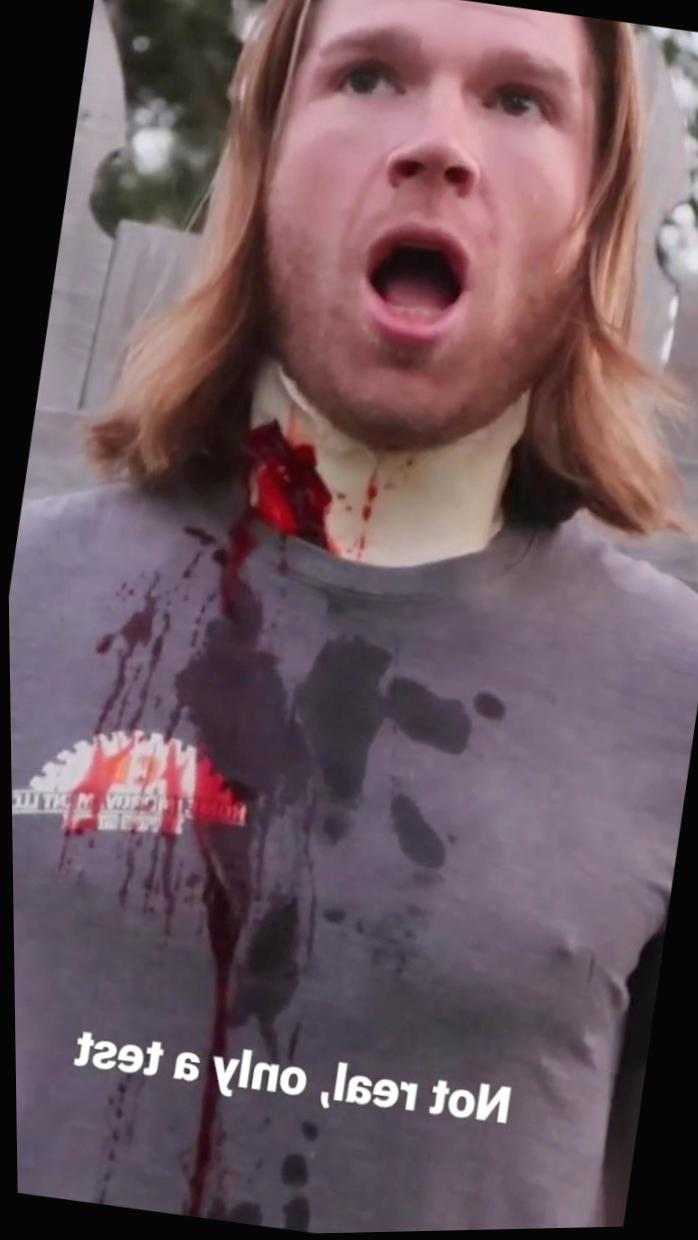Fire: (165, 511, 389, 1069), (24, 730, 182, 841), (69, 833, 183, 938), (245, 423, 331, 552), (315, 448, 398, 568), (100, 594, 154, 719), (181, 1080, 223, 1219)
